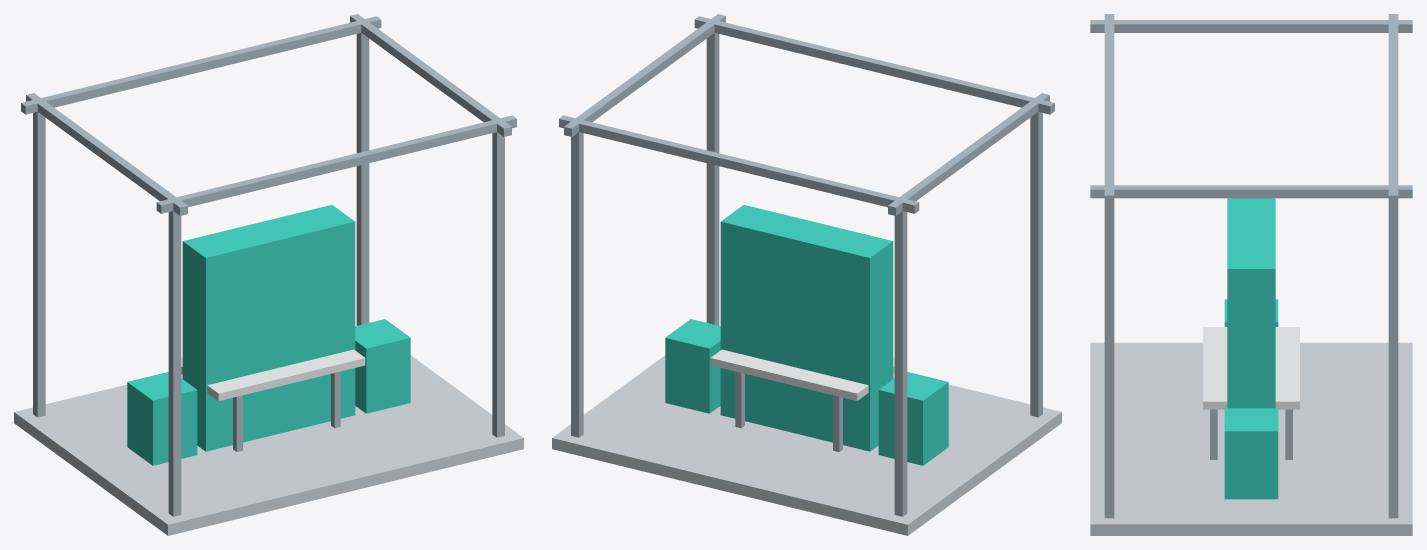
The picture shows the model from 3 angles, left to right: view 1: azimuth 30°, elevation 25°; view 2: azimuth 150°, elevation 25°; view 3: azimuth 270°, elevation 25°; orthographic projection. The views are drawn at different scales.
Visible parts, largest first — view 1: Exhibition Booth Concept; view 2: Exhibition Booth Concept; view 3: Exhibition Booth Concept.
Part boxes in pixels (x1,y1,x2,y2): Exhibition Booth Concept: (14, 14, 523, 535); Exhibition Booth Concept: (552, 14, 1061, 535); Exhibition Booth Concept: (1090, 14, 1412, 535).
Bounding box in the file's own units: 4 × 3.49 × 3.
